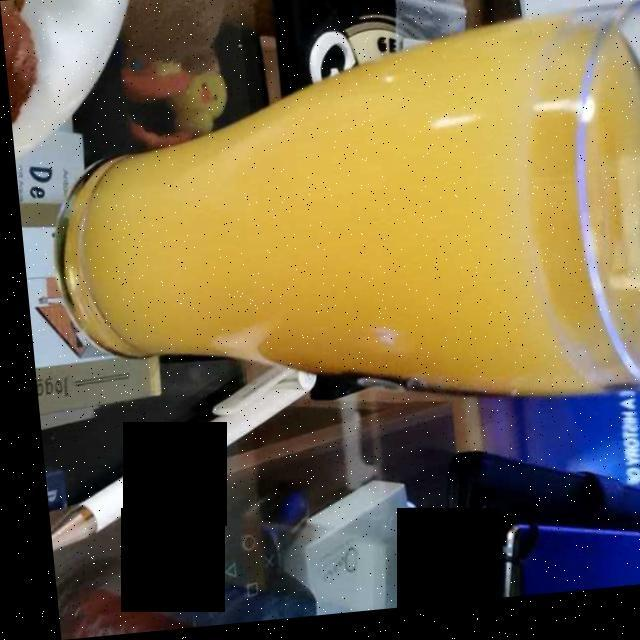juice: (69, 30, 625, 398)
